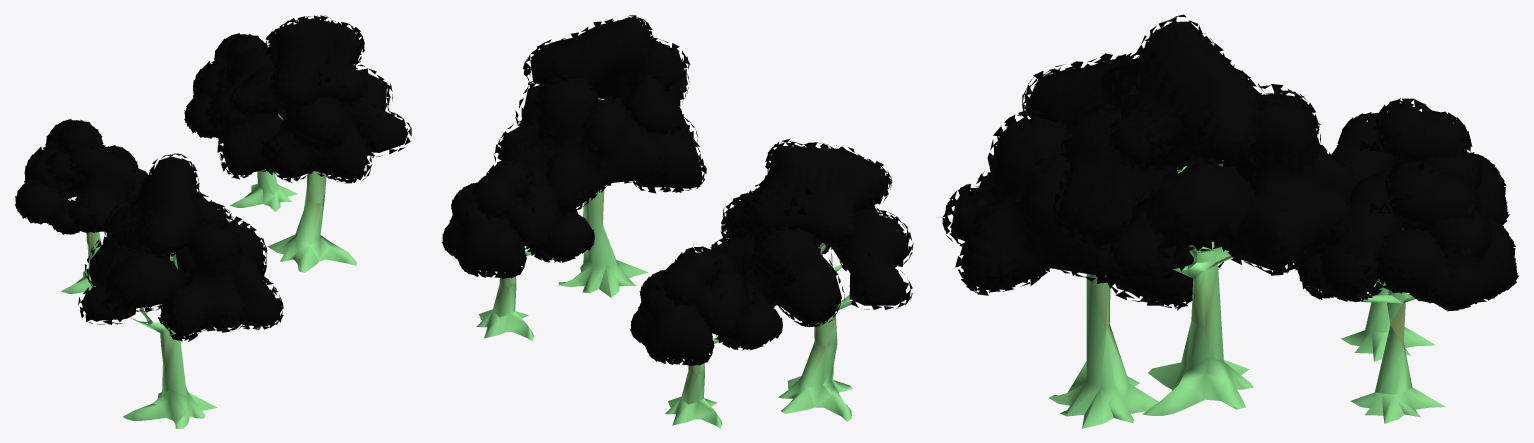
Rendered from SM_ENV_LKNVLD_TreeSet_N_Lod2.gltf.
The picture shows the model from 3 angles, left to right: view 1: azimuth 30°, elevation 25°; view 2: azimuth 150°, elevation 25°; view 3: azimuth 270°, elevation 25°; orthographic projection. The views are drawn at different scales.
Parts seen in each view (by area): view 1: SM_ENV_LKNVLD_TreeSet_N_Lod2; view 2: SM_ENV_LKNVLD_TreeSet_N_Lod2; view 3: SM_ENV_LKNVLD_TreeSet_N_Lod2.
Boxes of the visible parts, x1,y1,x2,y2 form: SM_ENV_LKNVLD_TreeSet_N_Lod2: (14, 15, 411, 428); SM_ENV_LKNVLD_TreeSet_N_Lod2: (442, 15, 913, 428); SM_ENV_LKNVLD_TreeSet_N_Lod2: (942, 14, 1519, 428).
Bounding box in the file's own units: 19.65 × 19.06 × 19.98.
